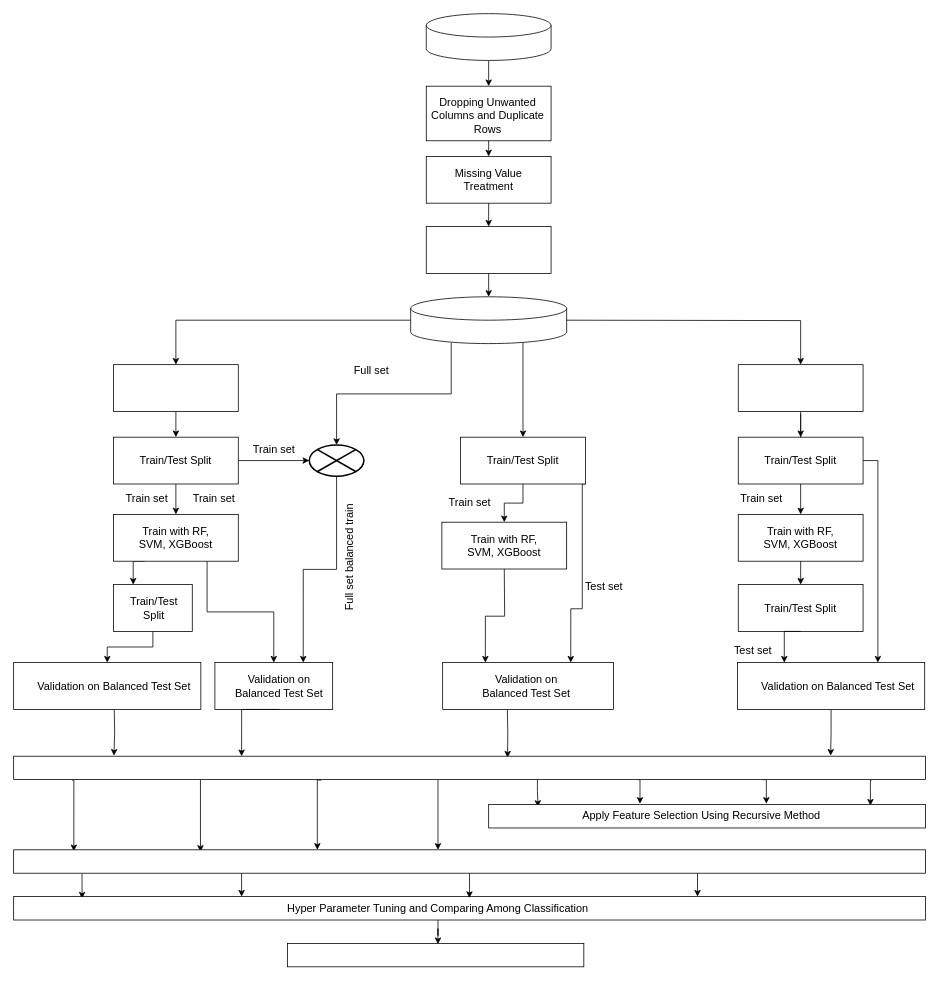
The diagram is 939 pixels wide and 981 high, and some of its shapes have lost their labels. Each missing label, with the centre of its shape:
Cleaned Imbalance Dataset: the point at 488,320
Comparison of results Before and After Feature Selection For Each Classifier: the point at 469,861
Comparison of Results For Each Classifier to Select Best For Each Classifier: the point at 469,767
Outlier Treatment: the point at 488,249
Over-sampling to balance data: the point at 800,387
Proposed Model: the point at 435,955
Stroke Dataset: the point at 488,36
Under-sampling to balance data: the point at 175,387
